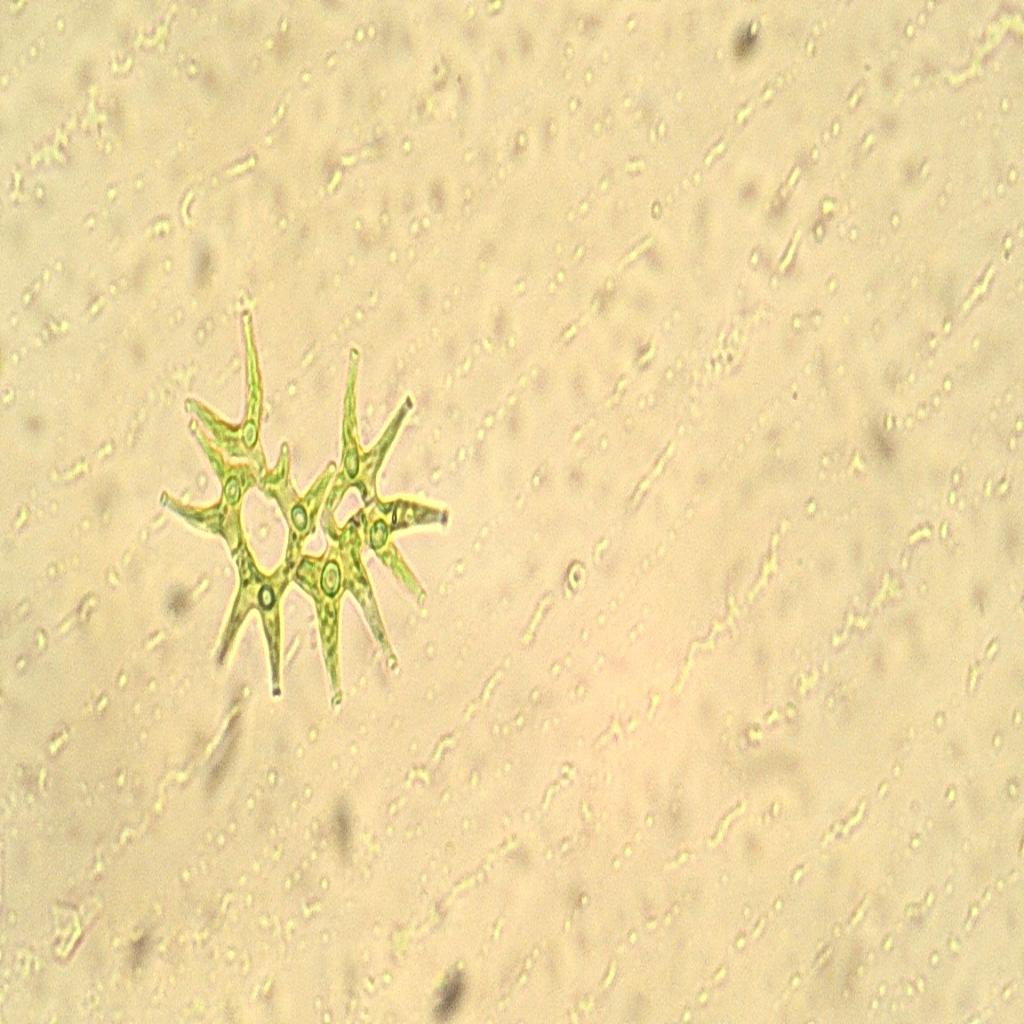Pediastrum_CFI: (142, 282, 484, 722)
